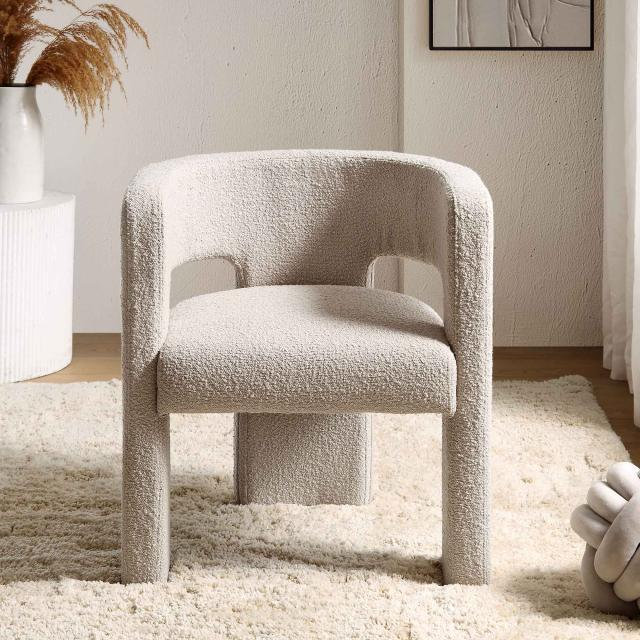chair: (100, 127, 536, 640)
